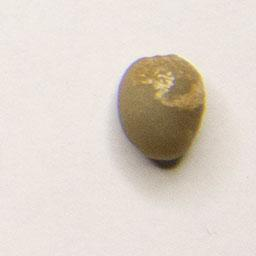peaberry: (115, 50, 207, 164)
